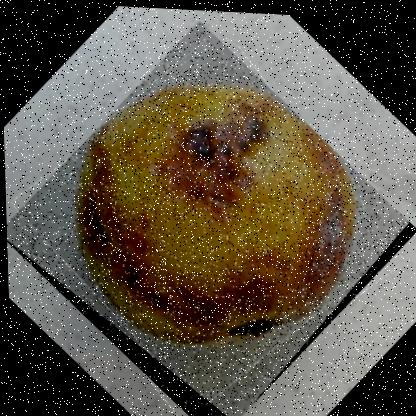guava_rotten: (0, 8, 415, 415)
